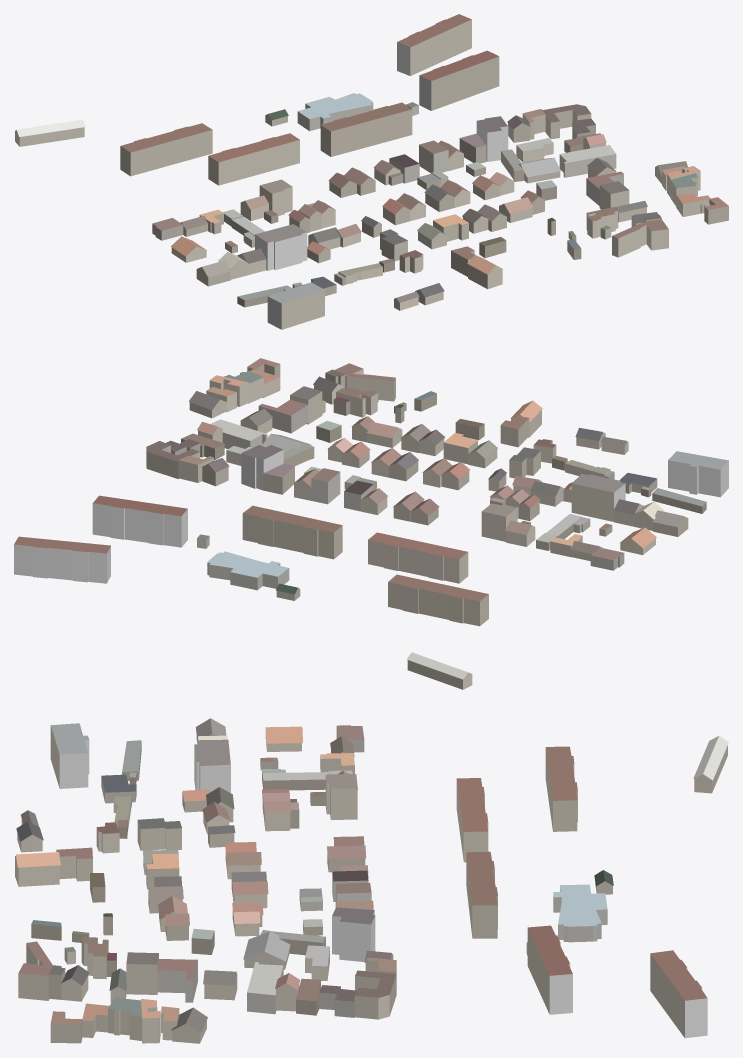
3 renders of one model, top to bottom at view 1: azimuth 30°, elevation 25°; view 2: azimuth 150°, elevation 25°; view 3: azimuth 270°, elevation 25°, orthographic. The views are drawn at different scales.
Parts seen in each view (by area): view 1: tuile; view 2: tuile; view 3: tuile.
Part boxes in pixels (left/top/right/bottom): tuile: left=15, top=14, right=728, bottom=329; tuile: left=14, top=358, right=728, bottom=689; tuile: left=15, top=718, right=728, bottom=1043.
Bounding box in the file's own units: 259 × 22.1 × 258.
